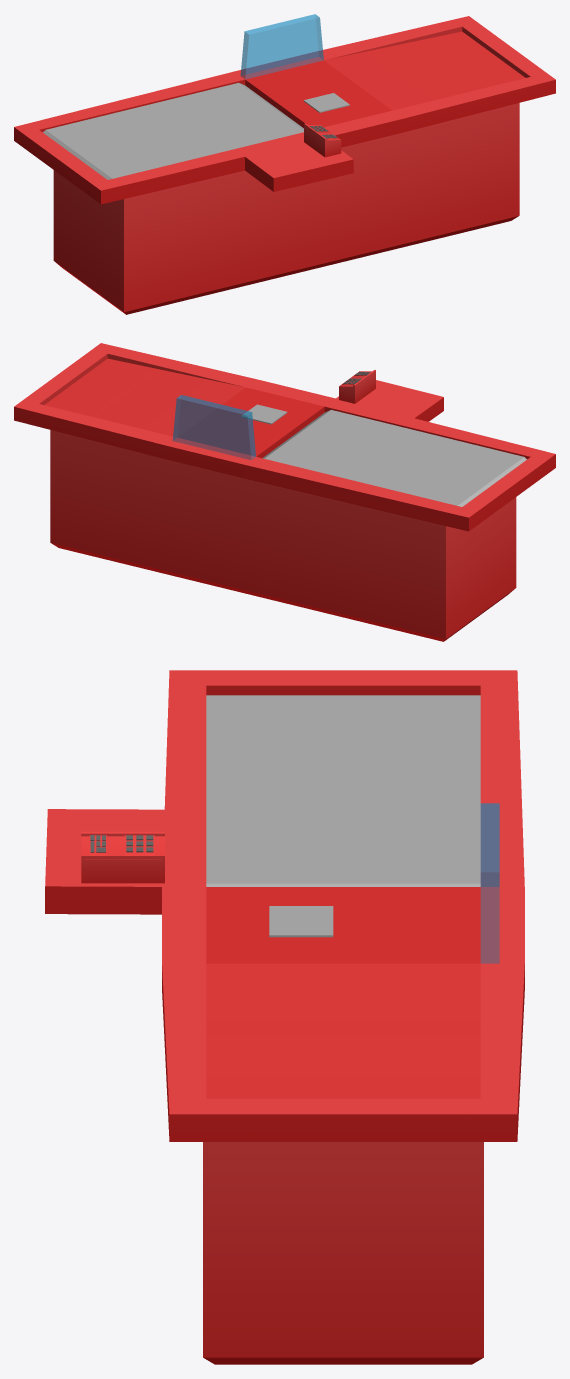
Rendered from checkout_red.fbx.
The picture shows the model from 3 angles, top to bottom: view 1: azimuth 30°, elevation 25°; view 2: azimuth 150°, elevation 25°; view 3: azimuth 270°, elevation 25°; orthographic projection. The views are drawn at different scales.
Visible parts, largest first — view 1: checkout_red, register_red; view 2: checkout_red, register_red; view 3: checkout_red, register_red.
Part boxes in pixels (box(x1,y1,x2,y2)): checkout_red: box(14, 14, 555, 314); register_red: box(304, 123, 341, 157); checkout_red: box(14, 343, 555, 641); register_red: box(339, 370, 375, 403); checkout_red: box(45, 670, 524, 1364); register_red: box(81, 830, 164, 883).
Bounding box in the file's own units: 1571 × 611 × 717.
